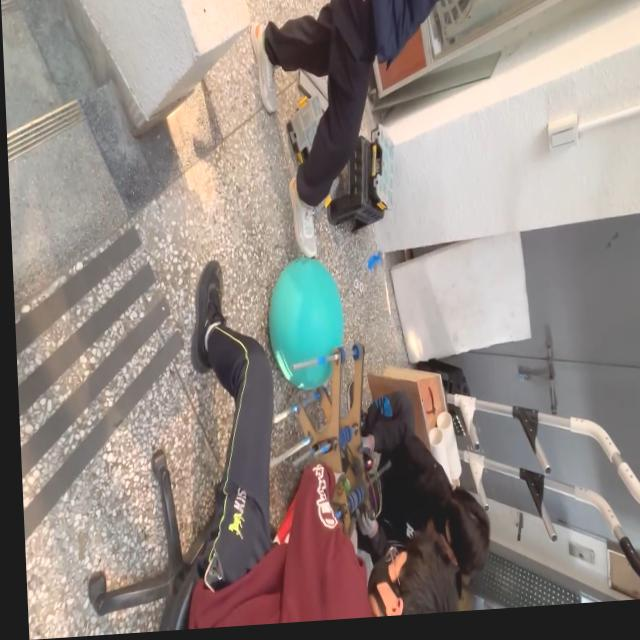ALGAE: (264, 252, 347, 394)
